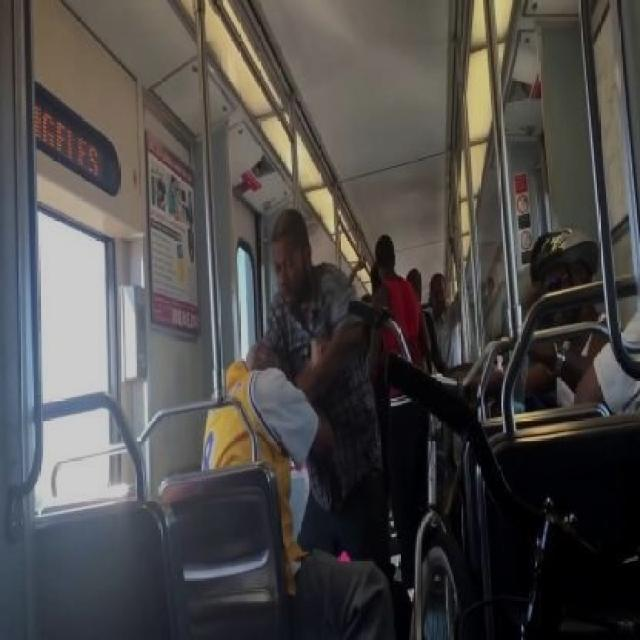fight: (174, 209, 392, 638)
